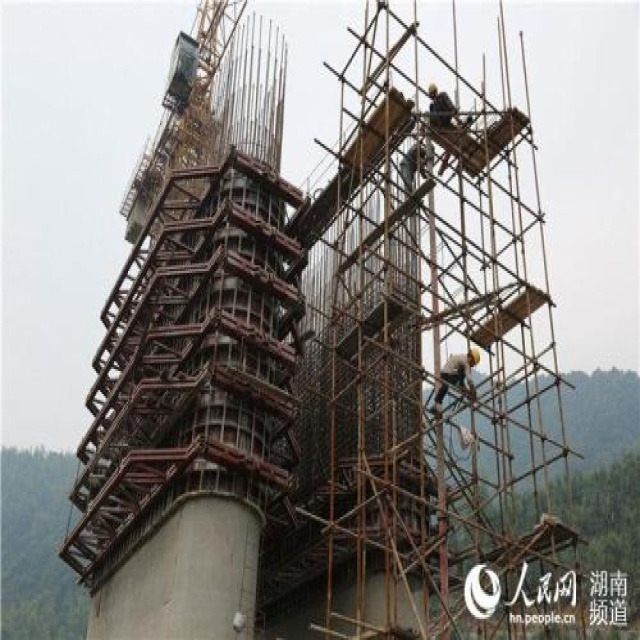safety_helmet: (468, 345, 481, 365)
